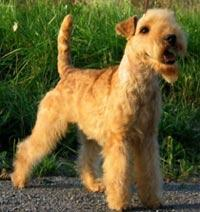wire-haired_fox_terrier: (9, 7, 190, 211)
